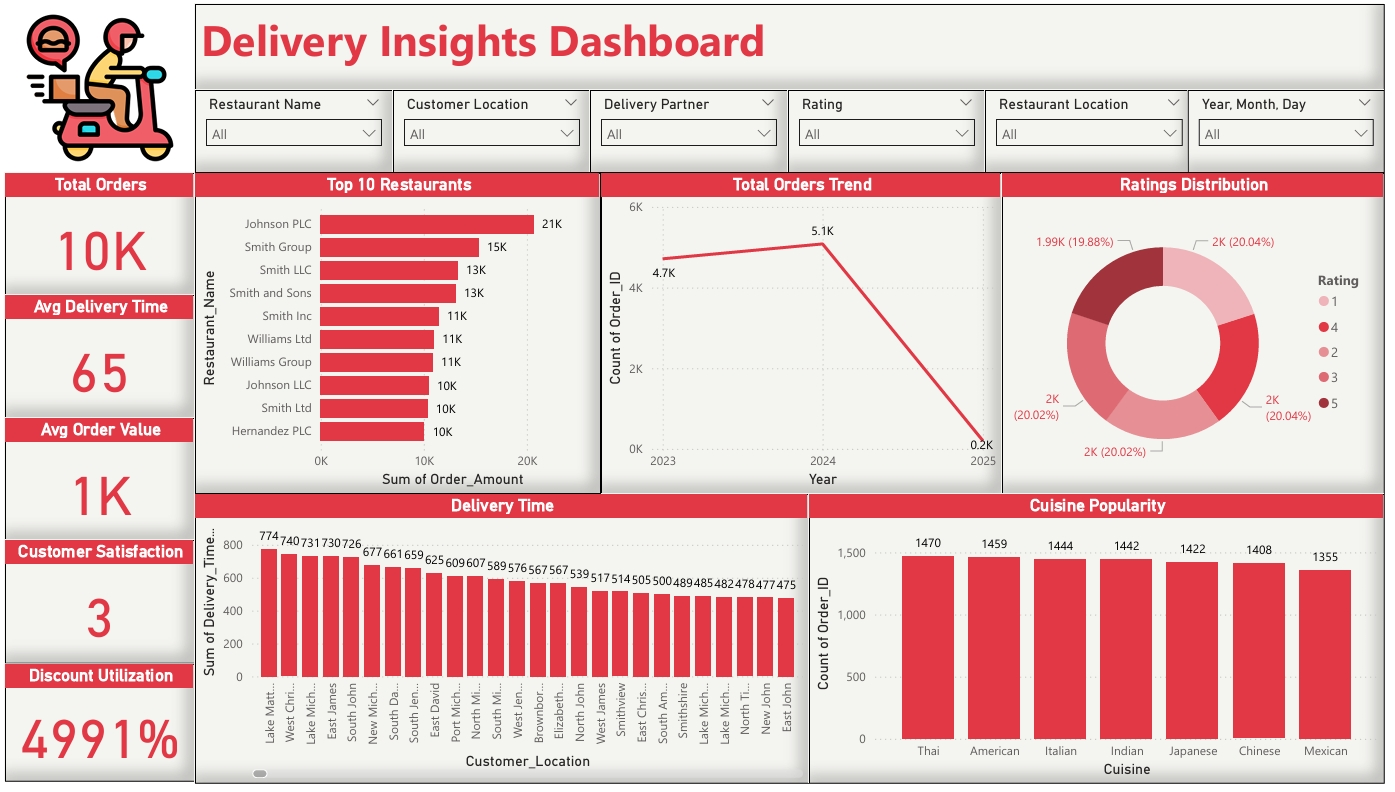

What the dashboard file says about the page in this screenshot:
{"tool":"powerbi","page":{"name":"Page 1","canvas":[1380,780],"ordinal":0},"visuals":[{"type":"card","title":"Total Orders","fields":{"Values":["Count(Sheet1.Order_ID)"]},"box":[0,168.5,190,123],"z":0},{"type":"card","title":"Avg Delivery Time","fields":{"Values":["Avg(Sheet1.Delivery_Time_Minutes)"]},"box":[0,291.1,190,123],"z":1000},{"type":"card","title":"Avg Order Value","fields":{"Values":["Avg(Sheet1.Order_Amount)"]},"box":[0,413.7,190,123],"z":2000},{"type":"card","title":"Customer Satisfaction","fields":{"Values":["Avg(Sheet1.Rating)"]},"box":[0,536.4,190,124],"z":3000},{"type":"card","title":"Discount Utilization","fields":{"Values":["Sheet1.Discount Utilization (%)"]},"box":[0,660.3,190,118],"z":4000},{"type":"lineChart","title":"Total Orders Trend","fields":{"Y":["CountNonNull(Sheet1.Order_ID)"],"Category":["Sheet1.Order_Date.Variation.Date Hierarchy.Year"]},"box":[595.9,168.7,401.4,321.7],"z":5000},{"type":"columnChart","title":"Delivery Time","fields":{"Category":["Sheet1.Customer_Location"],"Y":["Sum(Sheet1.Delivery_Time_Minutes)"]},"box":[190,490.4,614.3,289.5],"z":6000},{"type":"barChart","title":"Top 10 Restaurants","fields":{"Category":["Sheet1.Restaurant_Name"],"Y":["Sum(Sheet1.Order_Amount)"]},"box":[190,168.7,406,321.7],"z":7000},{"type":"donutChart","title":"Ratings Distribution","fields":{"Y":["CountNonNull(Sheet1.Order_ID)"],"Category":["Sheet1.Rating"]},"box":[997.3,168.7,383,321.7],"z":8000},{"type":"columnChart","title":"Cuisine Popularity","fields":{"Y":["CountNonNull(Sheet1.Order_ID)"],"Category":["Sheet1.Cuisine"]},"box":[804.3,490.4,576,289.5],"z":9000},{"type":"textbox","box":[190,0,1190.3,85.8],"z":10000},{"type":"slicer","fields":{"Values":["Sheet1.Restaurant_Name"]},"box":[190,85.8,198,82.7],"z":11000},{"type":"slicer","fields":{"Values":["Sheet1.Customer_Location"]},"box":[387.6,85.8,198,82.7],"z":12000},{"type":"slicer","fields":{"Values":["Sheet1.Delivery_Partner"]},"box":[585.2,85.8,198,82.7],"z":13000},{"type":"slicer","fields":{"Values":["Sheet1.Rating"]},"box":[782.8,85.8,198,82.7],"z":14000},{"type":"slicer","fields":{"Values":["Sheet1.Restaurant_Location"]},"box":[980.5,85.8,208.3,82.7],"z":15000},{"type":"slicer","fields":{"Values":["Sheet1.Order_Date.Variation.Date Hierarchy.Year","Sheet1.Order_Date.Variation.Date Hierarchy.Month","Sheet1.Order_Date.Variation.Date Hierarchy.Day"]},"box":[1182.7,85.8,197.6,82.7],"z":16000},{"type":"image","box":[0,0,190,168.5],"z":16001}]}

Visuals, with their boxes in screenshot pixels (x1, y1, x2, y2), scaled from the page's 1380x780 canvas onto the 1395x792 screenshot:
"Total Orders" card: (x1=0, y1=171, x2=192, y2=296)
"Avg Delivery Time" card: (x1=0, y1=296, x2=192, y2=420)
"Avg Order Value" card: (x1=0, y1=420, x2=192, y2=545)
"Customer Satisfaction" card: (x1=0, y1=545, x2=192, y2=671)
"Discount Utilization" card: (x1=0, y1=670, x2=192, y2=790)
"Total Orders Trend" lineChart: (x1=602, y1=171, x2=1008, y2=498)
"Delivery Time" columnChart: (x1=192, y1=498, x2=813, y2=791)
"Top 10 Restaurants" barChart: (x1=192, y1=171, x2=602, y2=498)
"Ratings Distribution" donutChart: (x1=1008, y1=171, x2=1394, y2=498)
"Cuisine Popularity" columnChart: (x1=813, y1=498, x2=1394, y2=791)
textbox: (x1=192, y1=0, x2=1394, y2=87)
slicer - Sheet1.Restaurant_Name: (x1=192, y1=87, x2=392, y2=171)
slicer - Sheet1.Customer_Location: (x1=392, y1=87, x2=592, y2=171)
slicer - Sheet1.Delivery_Partner: (x1=592, y1=87, x2=792, y2=171)
slicer - Sheet1.Rating: (x1=791, y1=87, x2=991, y2=171)
slicer - Sheet1.Restaurant_Location: (x1=991, y1=87, x2=1202, y2=171)
slicer - Sheet1.Order_Date.Variation.Date Hierarchy.Year x Sheet1.Order_Date.Variation.Date Hierarchy.Month: (x1=1196, y1=87, x2=1394, y2=171)
image: (x1=0, y1=0, x2=192, y2=171)
